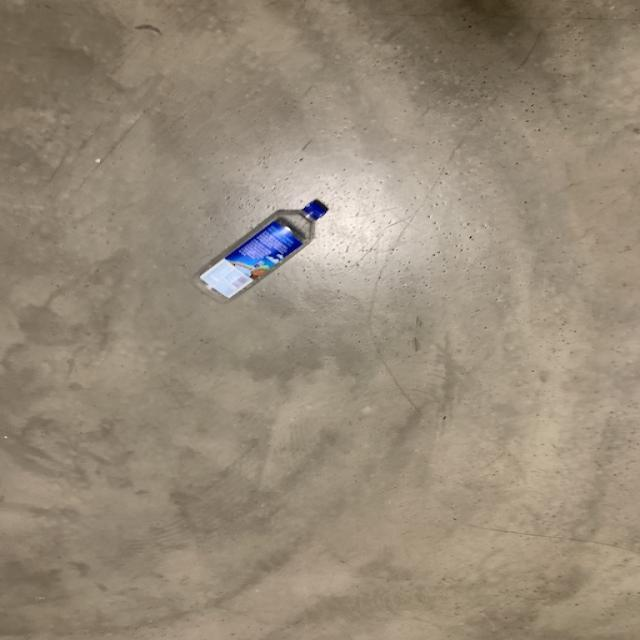Waste: (194, 201, 328, 303)
